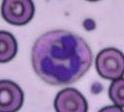N: (31, 29, 92, 84)
